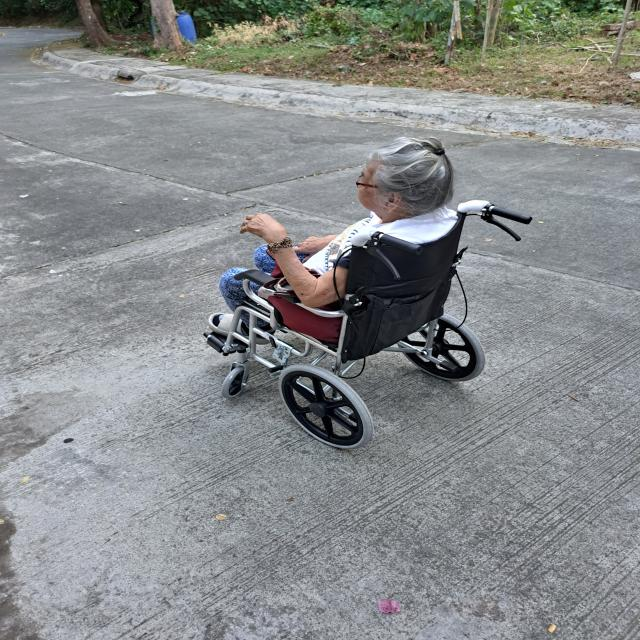wheelchairs: (199, 194, 552, 466)
